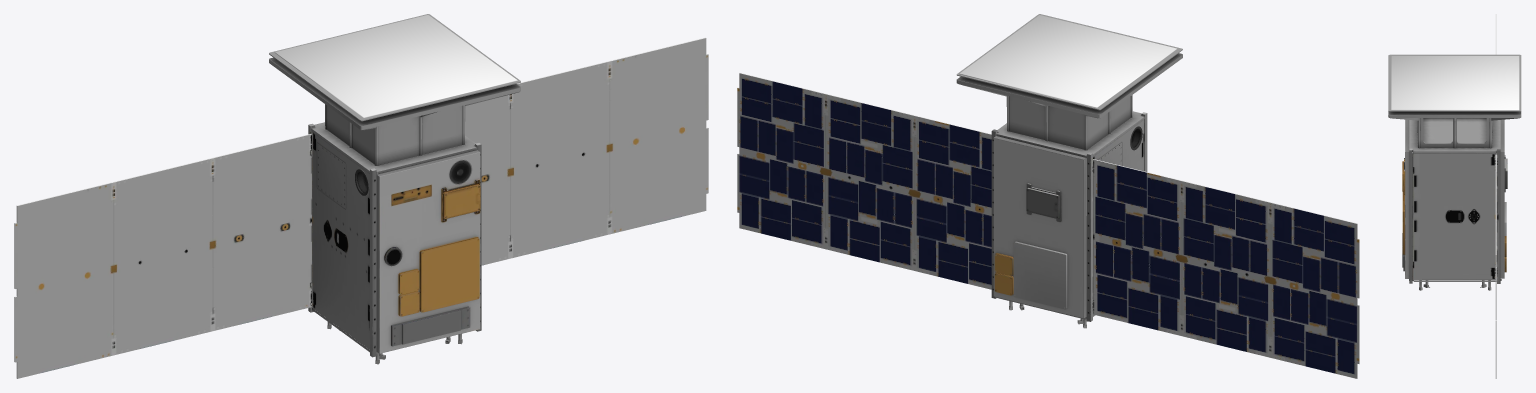
Rendered from capstone.glb.
3 views of the same model, side by side, from view 1: azimuth 30°, elevation 25°; view 2: azimuth 150°, elevation 25°; view 3: azimuth 270°, elevation 25° (orthographic). The views are drawn at different scales.
Parts seen in each view (by area): view 1: bus, foil, ao, array; view 2: bus, foil, ao, array; view 3: bus, foil, ao, array, thrusters.
Part boxes in pixels (x1=…): bus: x1=15, y1=38, x2=708, y2=378; foil: x1=274, y1=15, x2=517, y2=117; ao: x1=269, y1=14, x2=520, y2=354; array: x1=14, y1=37, x2=708, y2=378; bus: x1=737, y1=73, x2=1359, y2=378; foil: x1=959, y1=15, x2=1176, y2=107; ao: x1=956, y1=14, x2=1182, y2=319; array: x1=737, y1=73, x2=1359, y2=378; bus: x1=1402, y1=119, x2=1507, y2=283; foil: x1=1391, y1=56, x2=1519, y2=110; ao: x1=1388, y1=54, x2=1521, y2=281; array: x1=1495, y1=14, x2=1496, y2=378; thrusters: x1=1419, y1=280, x2=1491, y2=290.
Size of the model in its own units: 1.43 by 0.5294 by 0.3305.
5 materials, 3 textured.
